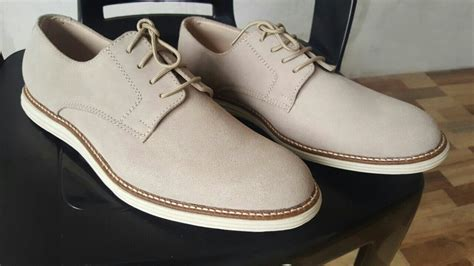gamuza: (22, 14, 443, 214)
